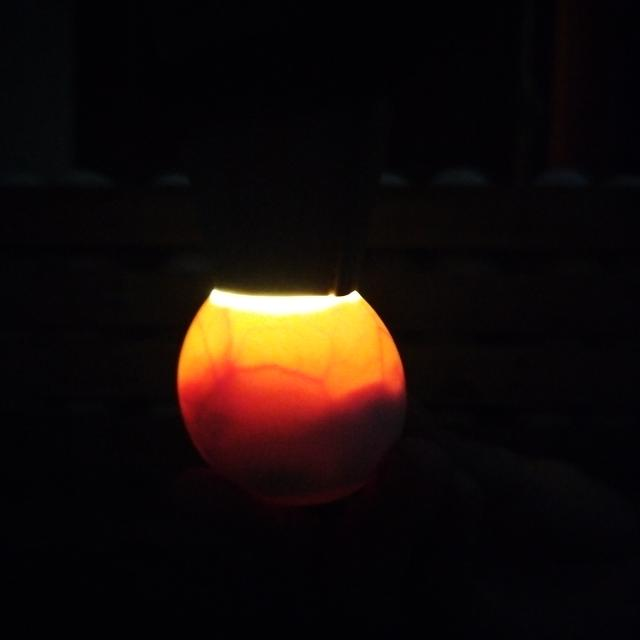Embriao: (191, 388, 410, 510)
